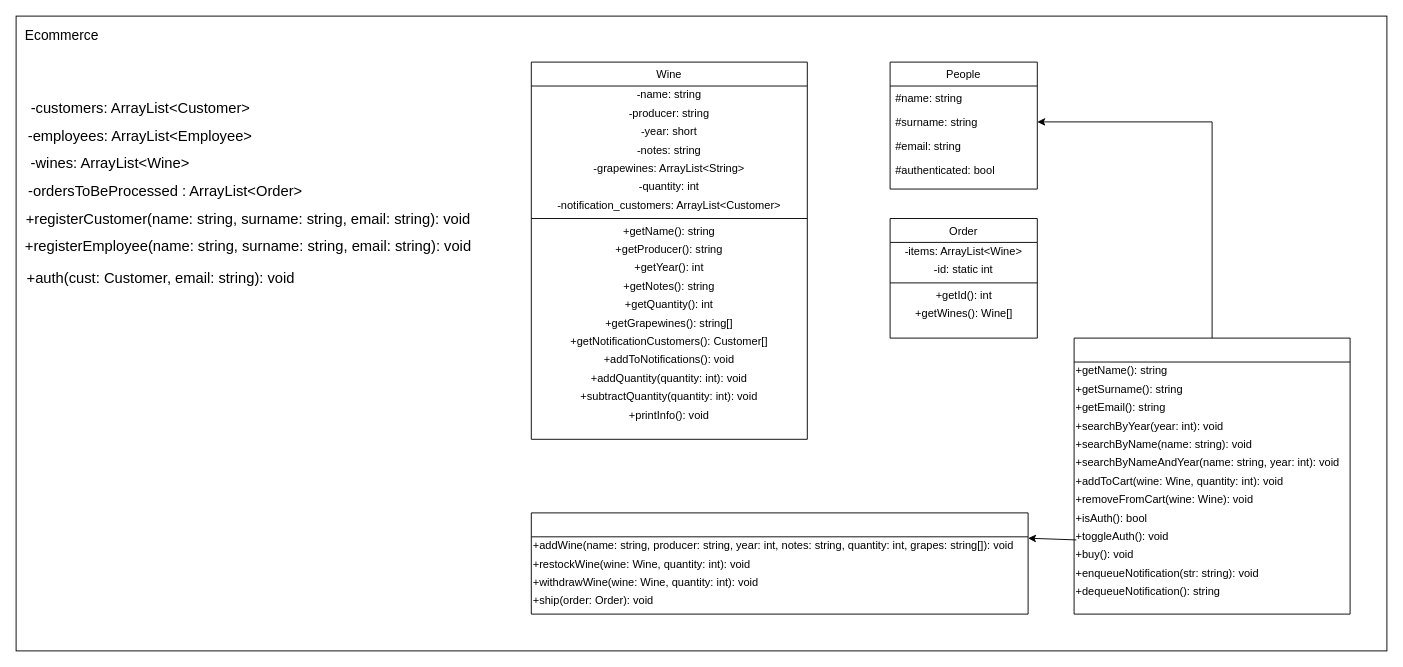
This 1403x667 diagram has some shape labels left out. Each missing label, with the box of its shape:
Customer: (1073, 337, 1350, 614)
Employee: (530, 512, 1028, 614)
